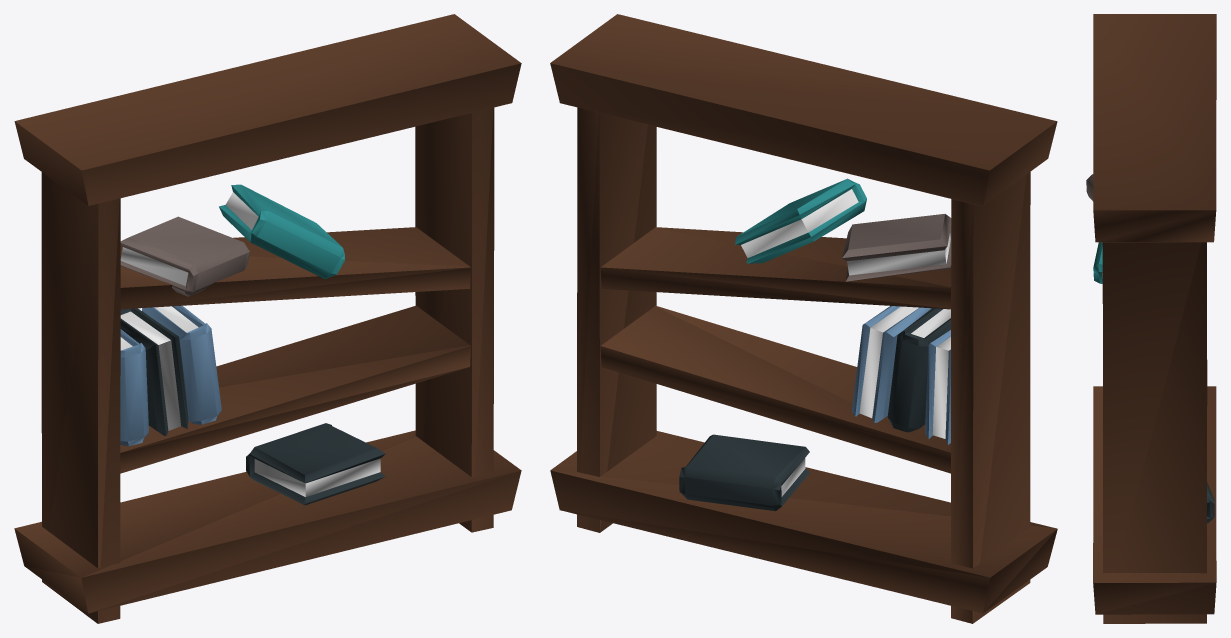
Rendered from bookshelf.fbx.
3 views of the same model, side by side, from view 1: azimuth 30°, elevation 25°; view 2: azimuth 150°, elevation 25°; view 3: azimuth 270°, elevation 25° (orthographic). The views are drawn at different scales.
Visible parts, largest first — view 1: bookcaseWideFilled_broken, bookcaseWideFilled_broken.001, bookcaseWideFilled_broken.008, bookcaseWideFilled_broken.007, bookcaseWideFilled_broken.004, bookcaseWideFilled_broken.005, bookcaseWideFilled_broken.003; view 2: bookcaseWideFilled_broken, bookcaseWideFilled_broken.001, bookcaseWideFilled_broken.008, bookcaseWideFilled_broken.007, bookcaseWideFilled_broken.005, bookcaseWideFilled_broken.004, bookcaseWideFilled_broken.003; view 3: bookcaseWideFilled_broken, bookcaseWideFilled_broken.007, bookcaseWideFilled_broken.001.
Boxes of the visible parts, <box> form: bookcaseWideFilled_broken: <box>14,14,521,623</box>; bookcaseWideFilled_broken.001: <box>246,423,385,505</box>; bookcaseWideFilled_broken.008: <box>120,216,249,296</box>; bookcaseWideFilled_broken.007: <box>219,184,344,278</box>; bookcaseWideFilled_broken.004: <box>120,308,188,435</box>; bookcaseWideFilled_broken.005: <box>142,305,221,424</box>; bookcaseWideFilled_broken.003: <box>120,329,148,446</box>; bookcaseWideFilled_broken: <box>550,14,1057,623</box>; bookcaseWideFilled_broken.001: <box>679,434,810,511</box>; bookcaseWideFilled_broken.008: <box>842,214,951,281</box>; bookcaseWideFilled_broken.007: <box>735,178,866,263</box>; bookcaseWideFilled_broken.005: <box>851,306,931,422</box>; bookcaseWideFilled_broken.004: <box>887,308,950,432</box>; bookcaseWideFilled_broken.003: <box>925,330,950,444</box>; bookcaseWideFilled_broken: <box>1093,14,1216,623</box>; bookcaseWideFilled_broken.007: <box>1093,242,1102,283</box>; bookcaseWideFilled_broken.001: <box>1207,482,1214,523</box>.
Size of the model in its own units: 52.46 by 52.71 by 14.7.
